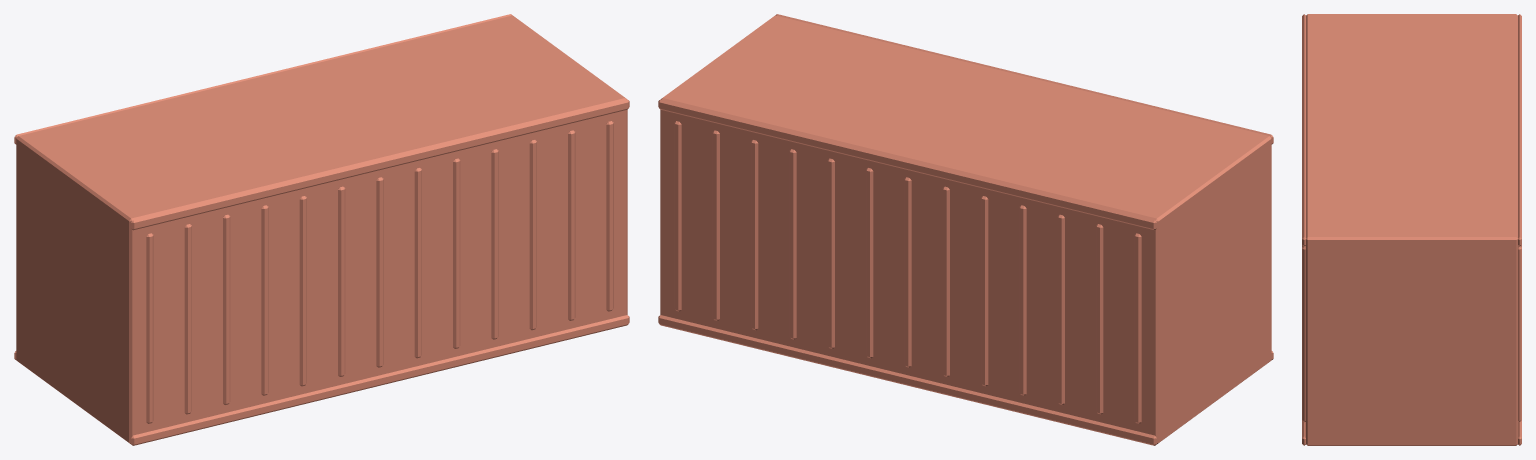
File: SM_Container_6x2p6x2p4.glb
The picture shows the model from 3 angles, left to right: view 1: azimuth 30°, elevation 25°; view 2: azimuth 150°, elevation 25°; view 3: azimuth 270°, elevation 25°; orthographic projection. The views are drawn at different scales.
Parts seen in each view (by area): view 1: SM_Container_6x2p6x2p4; view 2: SM_Container_6x2p6x2p4; view 3: SM_Container_6x2p6x2p4.
Part boxes in pixels (x1,y1,x2,y2): SM_Container_6x2p6x2p4: [14, 14, 629, 445]; SM_Container_6x2p6x2p4: [658, 14, 1273, 445]; SM_Container_6x2p6x2p4: [1302, 14, 1521, 445].
Size of the model in its own units: 6 by 2.6 by 2.48.
